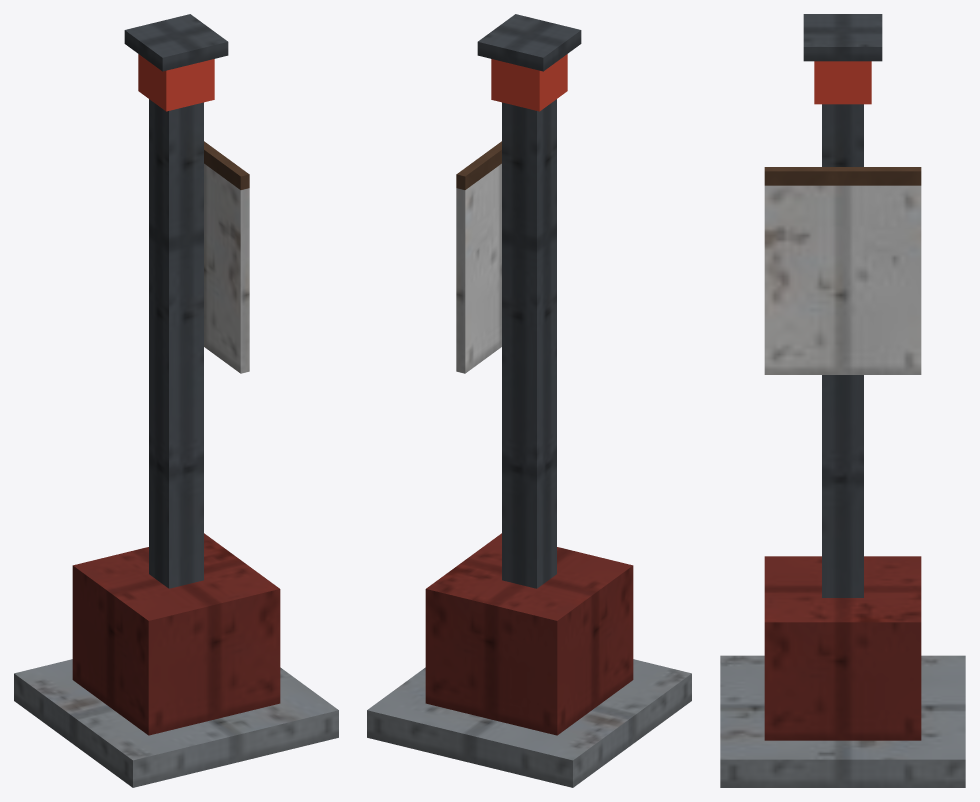
The picture shows the model from 3 angles, left to right: view 1: azimuth 30°, elevation 25°; view 2: azimuth 150°, elevation 25°; view 3: azimuth 270°, elevation 25°; orthographic projection. The views are drawn at different scales.
Visible parts, largest first — view 1: garde_building_outpost; view 2: garde_building_outpost; view 3: garde_building_outpost.
Boxes of the visible parts, box(x1,y1,x2,y2) form: garde_building_outpost: box(14, 14, 338, 787); garde_building_outpost: box(367, 14, 691, 787); garde_building_outpost: box(720, 14, 965, 787).
Bounding box in the file's own units: 0.94 × 2.98 × 0.94.
Materials: 6 (6 with a texture image).
